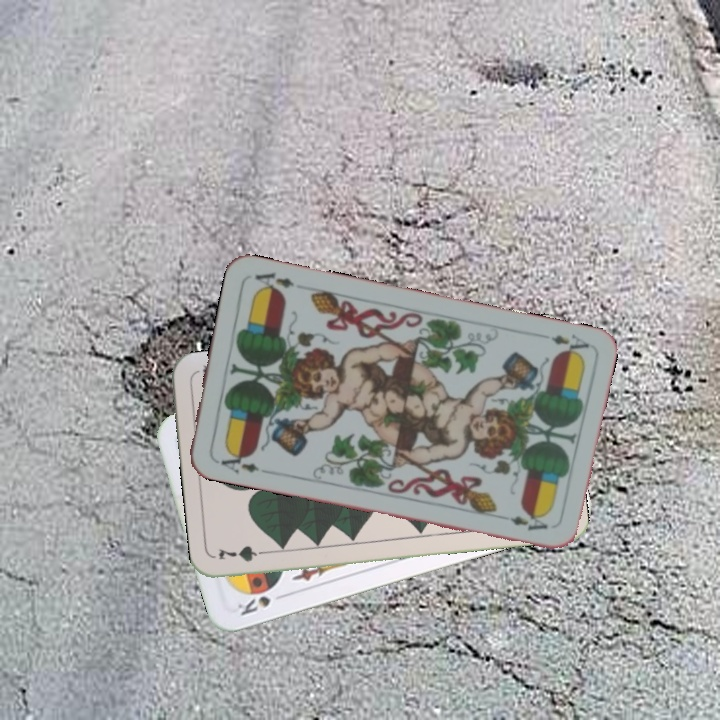EA: (211, 446, 262, 476), (547, 329, 592, 359)
G7: (214, 541, 274, 565)
SK: (233, 589, 290, 618)
